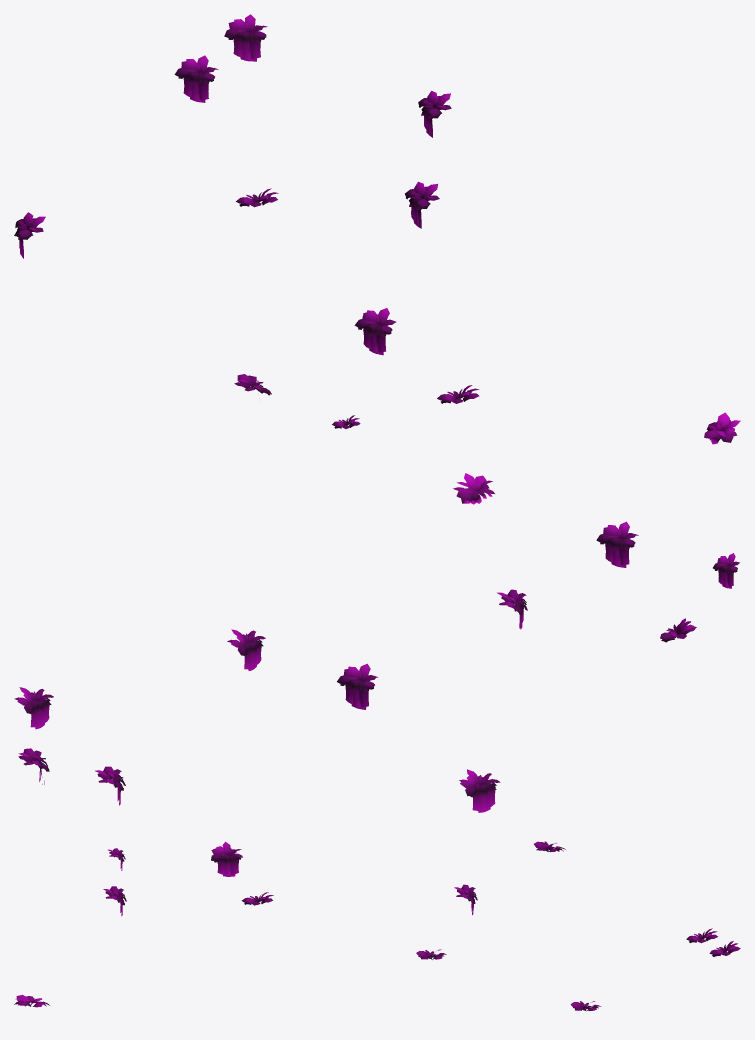
The model's file is n0_lr0_agg_merge_mall_trees_branches01_0.glb.
3 views of the same model, one above another, from view 1: azimuth 30°, elevation 25°; view 2: azimuth 150°, elevation 25°; view 3: azimuth 270°, elevation 25° (orthographic). The views are drawn at different scales.
Parts seen in each view (by area): view 1: maps\de_mirage\worldnodes\n0_lr0_agg_merge_mall_trees_branch; view 2: maps\de_mirage\worldnodes\n0_lr0_agg_merge_mall_trees_branch; view 3: maps\de_mirage\worldnodes\n0_lr0_agg_merge_mall_trees_branch.
Boxes of the visible parts, x1,y1,x2,y2 form: maps\de_mirage\worldnodes\n0_lr0_agg_merge_mall_trees_branch: (14, 14, 740, 444); maps\de_mirage\worldnodes\n0_lr0_agg_merge_mall_trees_branch: (14, 473, 739, 812); maps\de_mirage\worldnodes\n0_lr0_agg_merge_mall_trees_branch: (14, 841, 740, 1011).
Bounding box in the file's own units: 59.49 × 10.03 × 108.
